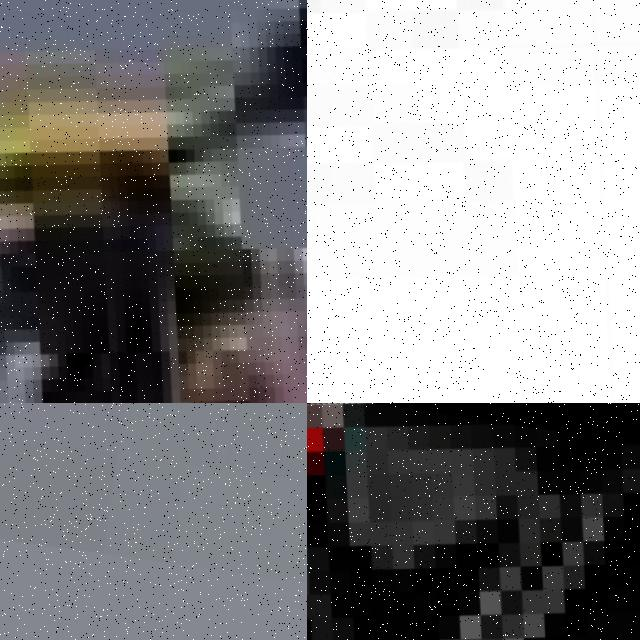0: (0, 0, 307, 403)
drone: (307, 0, 640, 403), (307, 403, 640, 640)
